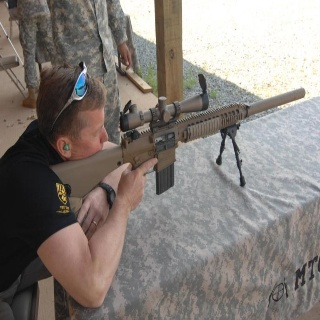rifle: (50, 72, 310, 195)
